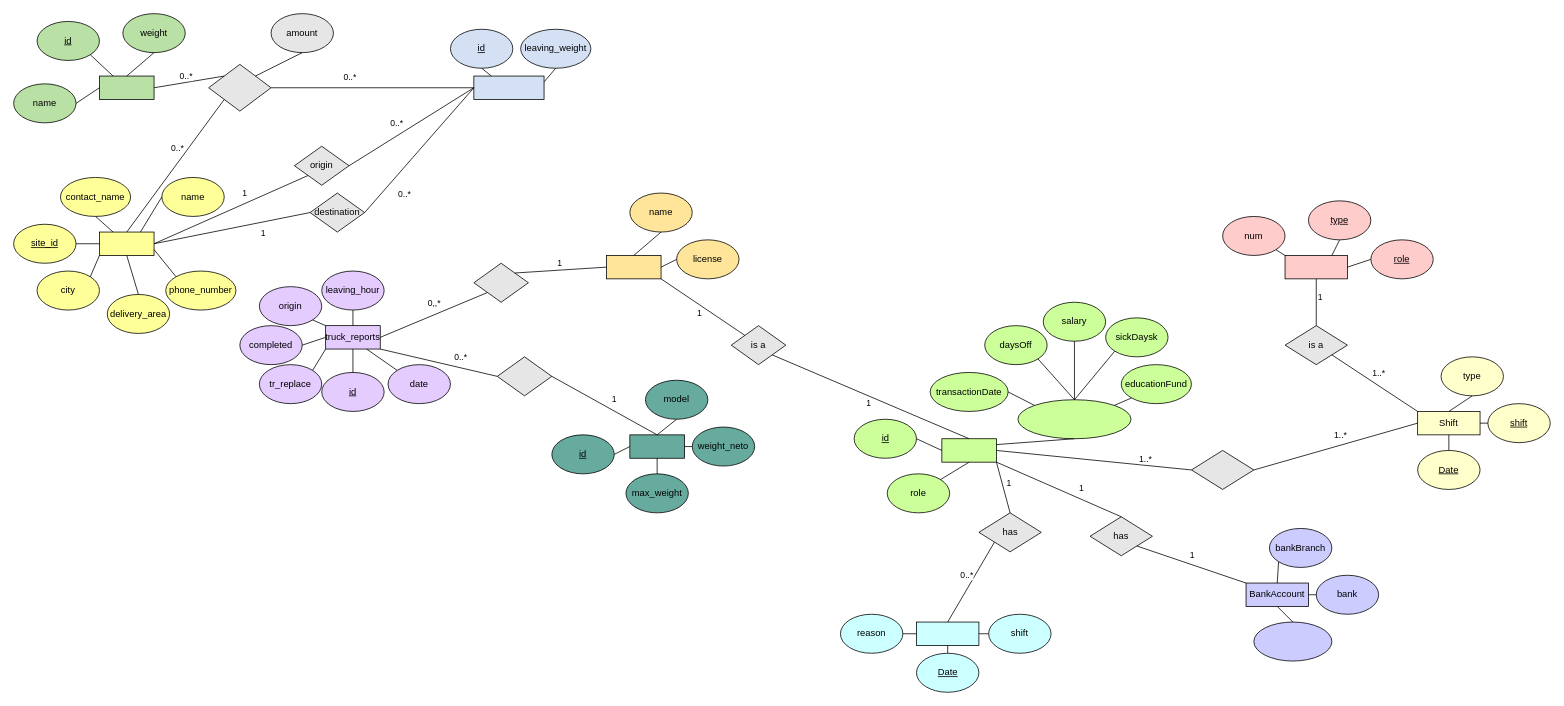
This 1564x706 diagram has some shape labels left out. Here are the shapes that lost their labels. From the top down, the centre of each, then its label:
the point at 126,87: items
the point at 239,87: demand
the point at 508,87: delivery_form
the point at 126,243: sites
the point at 500,282: drives
the point at 633,267: driver
the point at 1315,267: ShiftType
the point at 524,376: carry
the point at 1074,419: termsOfEmployment
the point at 656,446: truck
the point at 968,450: Employee
the point at 1222,469: manning
the point at 947,633: Constraint
the point at 1292,641: accountNumber
